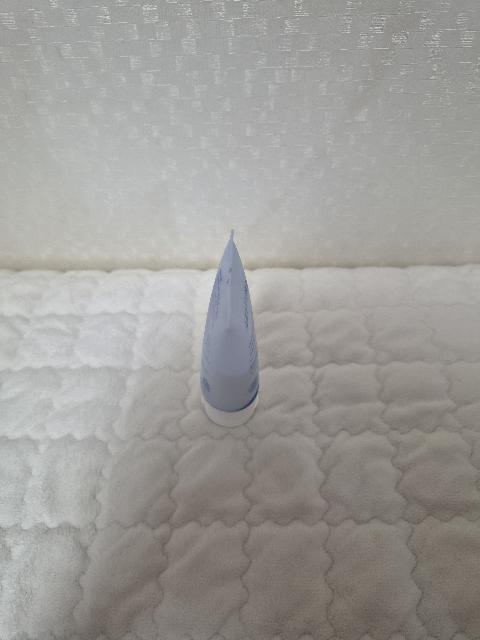handcream: (200, 229, 260, 427)
